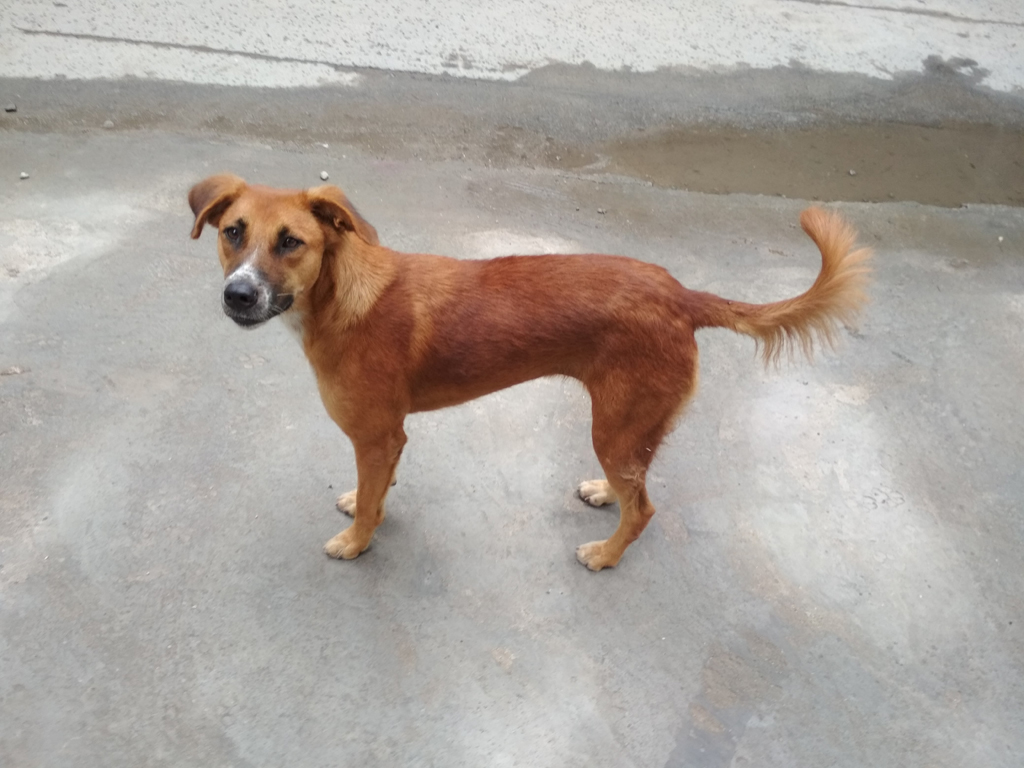dog: (188, 172, 870, 574)
